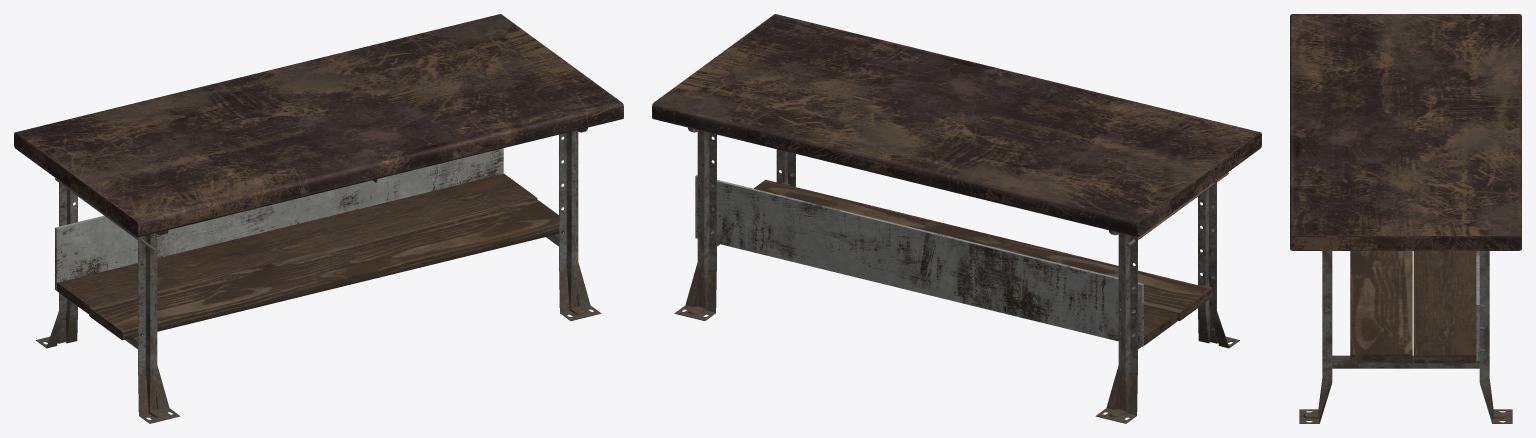
Rendered from workbench.glb.
3 renders of one model, left to right at view 1: azimuth 30°, elevation 25°; view 2: azimuth 150°, elevation 25°; view 3: azimuth 270°, elevation 25°, orthographic. The views are drawn at different scales.
Visible parts, largest first — view 1: Wood_WorkTable_Wood_M_0, Metal_WorkTable_Metal_M_0; view 2: Wood_WorkTable_Wood_M_0, Metal_WorkTable_Metal_M_0; view 3: Wood_WorkTable_Wood_M_0, Metal_WorkTable_Metal_M_0.
Part boxes in pixels (x1,y1,x2,y2): Wood_WorkTable_Wood_M_0: [14, 14, 623, 340]; Metal_WorkTable_Metal_M_0: [36, 127, 601, 423]; Wood_WorkTable_Wood_M_0: [652, 14, 1261, 346]; Metal_WorkTable_Metal_M_0: [674, 127, 1239, 423]; Wood_WorkTable_Wood_M_0: [1290, 14, 1521, 363]; Metal_WorkTable_Metal_M_0: [1299, 251, 1512, 423].
Size of the model in its own units: 4.36 by 1.79 by 1.92.
Materials: 2 (2 with a texture image).
